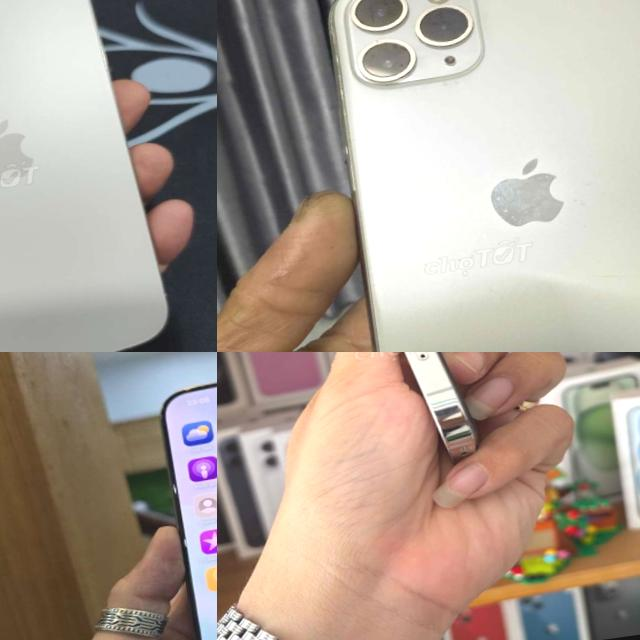scratch: (402, 142, 627, 260), (321, 12, 379, 182)
